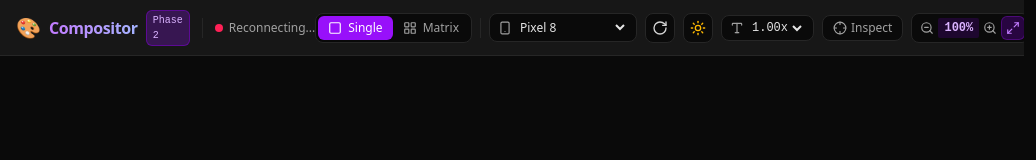
Test case: TopBar Component › toggles orientation between portrait and landscape
The width and height of the screenshot is (1036, 160).
What coordinates should you click on to do the following:
click the button titled "Orientation:"
I would click on:
 (660, 28)
Its box is left=645, top=12, right=675, bottom=42.
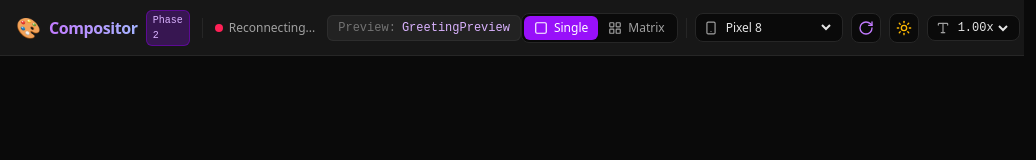
Result: the button titled "Orientation: landscape" is shown at left=851, top=12, right=881, bottom=42
